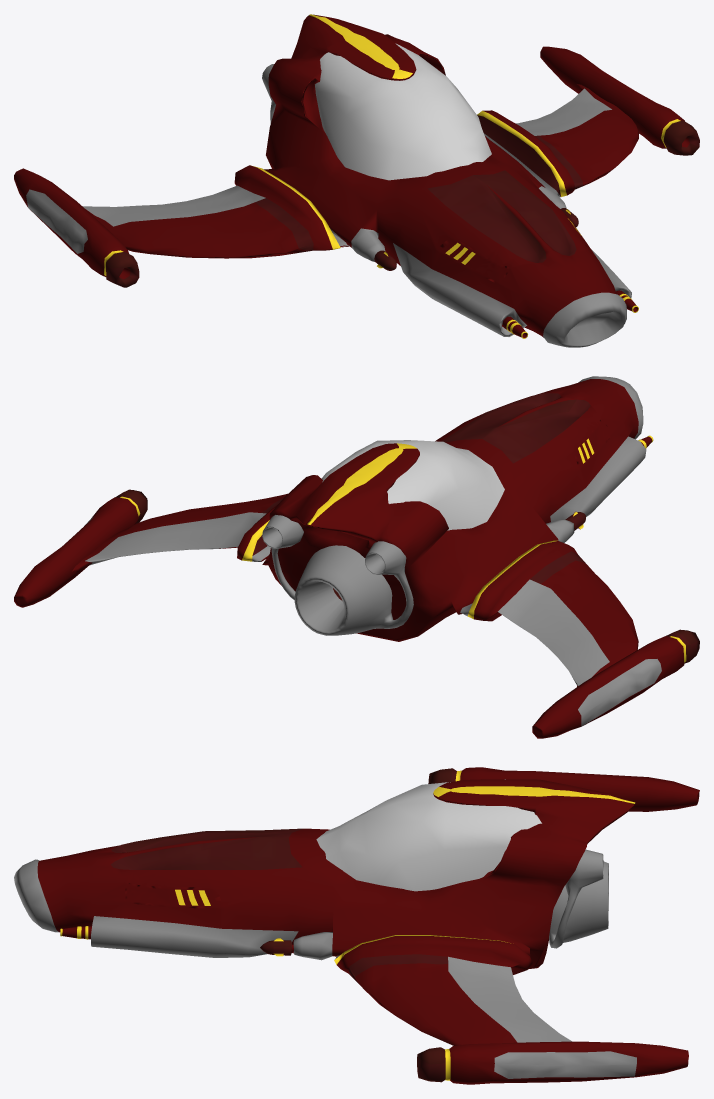
File: naveEspacial.obj
3 views of the same model, one above another, from view 1: azimuth 30°, elevation 25°; view 2: azimuth 150°, elevation 25°; view 3: azimuth 270°, elevation 25° (orthographic). The views are drawn at different scales.
Parts seen in each view (by area): view 1: defaultMaterial.001_colorVino, defaultMaterial.001_colorPlateado, defaultMaterial.001_colorGrisOscuro, defaultMaterial.001_coloCafeOscuro, defaultMaterial.001_colorAmarillo; view 2: defaultMaterial.001_colorVino, defaultMaterial.001_colorGrisOscuro, defaultMaterial.001_colorPlateado, defaultMaterial.001_coloCafeOscuro, defaultMaterial.001_colorAmarillo; view 3: defaultMaterial.001_colorVino, defaultMaterial.001_colorGrisOscuro, defaultMaterial.001_colorPlateado, defaultMaterial.001_coloCafeOscuro, defaultMaterial.001_colorAmarillo.
Boxes of the visible parts, x1,y1,x2,y2 form: defaultMaterial.001_colorVino: (14,14,689,337); defaultMaterial.001_colorPlateado: (315,43,491,180); defaultMaterial.001_colorGrisOscuro: (26,64,631,347); defaultMaterial.001_coloCafeOscuro: (106,115,699,287); defaultMaterial.001_colorAmarillo: (104,14,680,338); defaultMaterial.001_colorVino: (14,379,684,738); defaultMaterial.001_colorGrisOscuro: (84,376,661,726); defaultMaterial.001_colorPlateado: (321,440,504,530); defaultMaterial.001_coloCafeOscuro: (115,393,699,663); defaultMaterial.001_colorAmarillo: (120,435,686,662); defaultMaterial.001_colorVino: (37,767,699,1084); defaultMaterial.001_colorGrisOscuro: (14,849,636,1078); defaultMaterial.001_colorPlateado: (316,779,541,891); defaultMaterial.001_coloCafeOscuro: (111,768,456,1082); defaultMaterial.001_colorAmarillo: (60,770,635,1080).
Bounding box in the file's own units: 1.96 × 0.5108 × 1.94.
